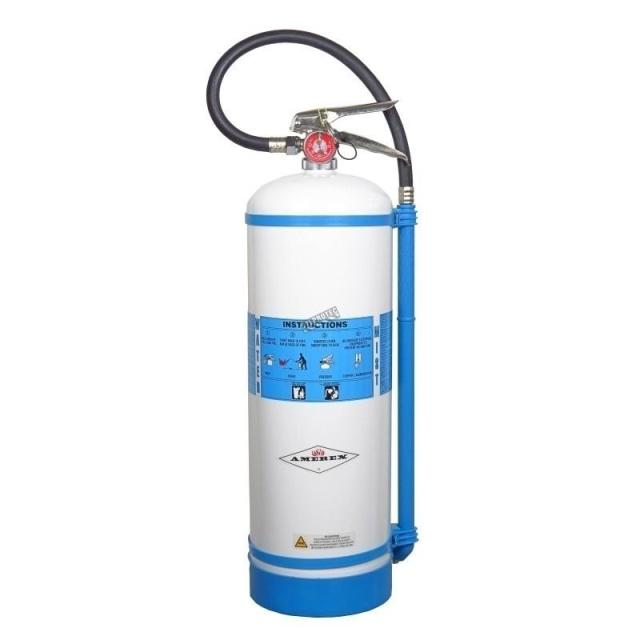fire_extinguisher: (199, 22, 425, 624)
